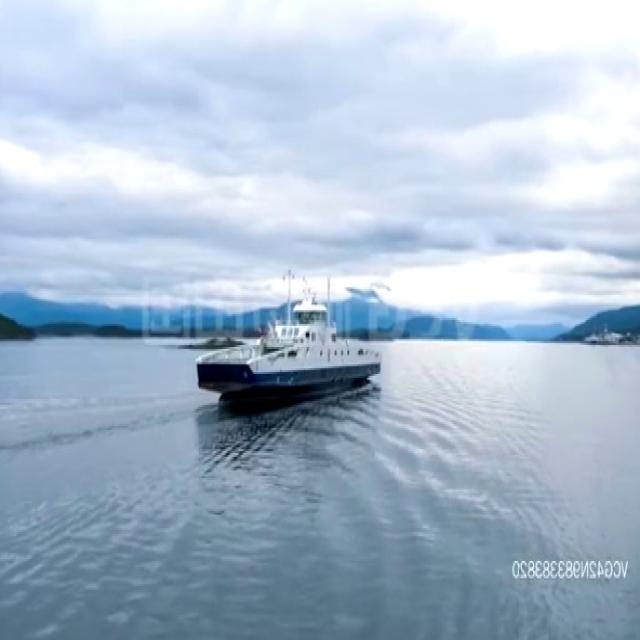houseboat: (198, 282, 382, 402)
